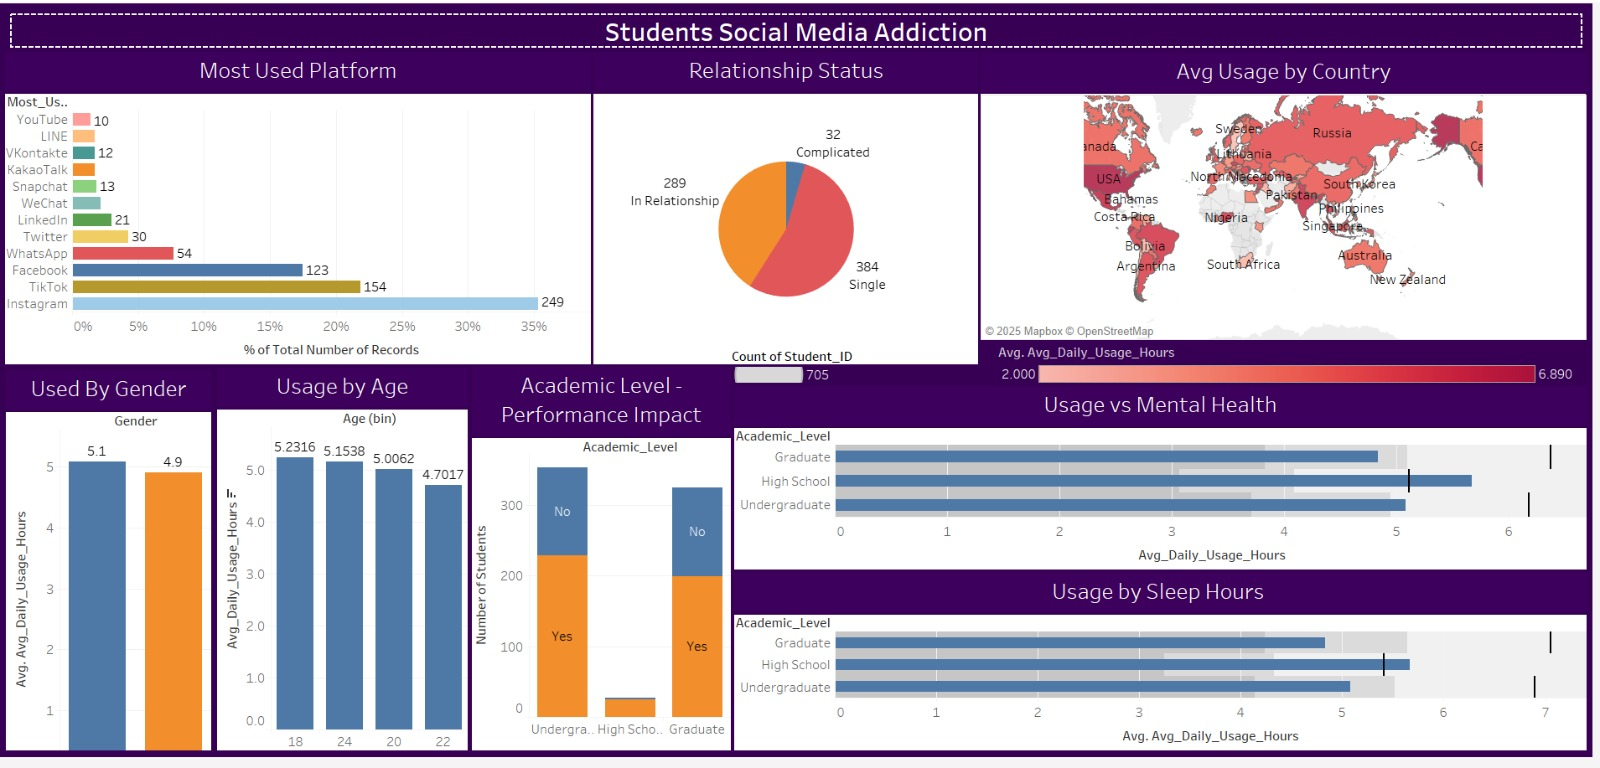

What the dashboard file says about the page in this screenshot:
{"tool":"tableau","page":{"name":"Students Social Media Addiction Analysis","canvas":[1900,900],"ordinal":0},"visuals":[{"type":"title","box":[8,8,1884,49]},{"type":"worksheet","title":"Most Used Platform","mark":"Automatic","rows":["Most_Used_Platform"],"cols":["Number of Records"],"box":[5.9,58,699.4,374]},{"type":"worksheet","title":"Relationship Status","mark":"Pie","box":[707.8,58,459.6,373]},{"type":"worksheet","title":"Avg Usage by Country","mark":"Multipolygon","box":[1169.7,59,723.2,343]},{"type":"legend","title":"Avg Usage by Country","param":"[federated.0enf2uc16a9yrr1fp2l4u0sx64d5].[avg:Avg_Daily_Usage_Hours:qk]","box":[1191.1,406,689.9,49]},{"type":"legend","title":"Relationship Status","param":"[federated.0enf2uc16a9yrr1fp2l4u0sx64d5].[cnt:Student_ID:qk]","box":[872.8,411,294.5,46]},{"type":"worksheet","title":"Academic Level - Performance Impact","mark":"Automatic","rows":["Number of Records"],"cols":["Academic_Level"],"box":[562.9,434,308.8,458]},{"type":"worksheet","title":"Usage by Age","mark":"Bar","rows":["Avg_Daily_Usage_Hours"],"cols":["Age (bin)"],"box":[258.9,435,299.2,457]},{"type":"worksheet","title":"Used By Gender","mark":"Automatic","rows":["Avg_Daily_Usage_Hours"],"cols":["Gender"],"box":[7.1,438,244.6,454]},{"type":"worksheet","title":"Usage vs Mental Health","mark":"Automatic","rows":["Academic_Level"],"cols":["Avg_Daily_Usage_Hours"],"box":[876.4,457,1016.5,219]},{"type":"legend","title":"Usage by Sleep Hours ","param":"[federated.0enf2uc16a9yrr1fp2l4u0sx64d5].[none:Academic_Level:nk]","box":[1514.1,616,166.2,85]},{"type":"worksheet","title":"Usage by Sleep Hours ","mark":"Bar","rows":["Academic_Level"],"cols":["Avg_Daily_Usage_Hours"],"box":[876.4,680,1016.5,212]}]}

Visuals, with their boxes in screenshot pixels (x1, y1, x2, y2), scaled from the page's 1900x900 canvas onto the 1600x768 screenshot:
title: rect(7, 7, 1593, 49)
"Most Used Platform" worksheet: rect(5, 49, 594, 369)
"Relationship Status" worksheet (Pie marks): rect(596, 49, 983, 368)
"Avg Usage by Country" worksheet (Multipolygon marks): rect(985, 50, 1594, 343)
"Avg Usage by Country" legend: rect(1003, 346, 1584, 388)
"Relationship Status" legend: rect(735, 351, 983, 390)
"Academic Level - Performance Impact" worksheet: rect(474, 370, 734, 761)
"Usage by Age" worksheet (Bar marks): rect(218, 371, 470, 761)
"Used By Gender" worksheet: rect(6, 374, 212, 761)
"Usage vs Mental Health" worksheet: rect(738, 390, 1594, 577)
"Usage by Sleep Hours " legend: rect(1275, 526, 1415, 598)
"Usage by Sleep Hours " worksheet (Bar marks): rect(738, 580, 1594, 761)
